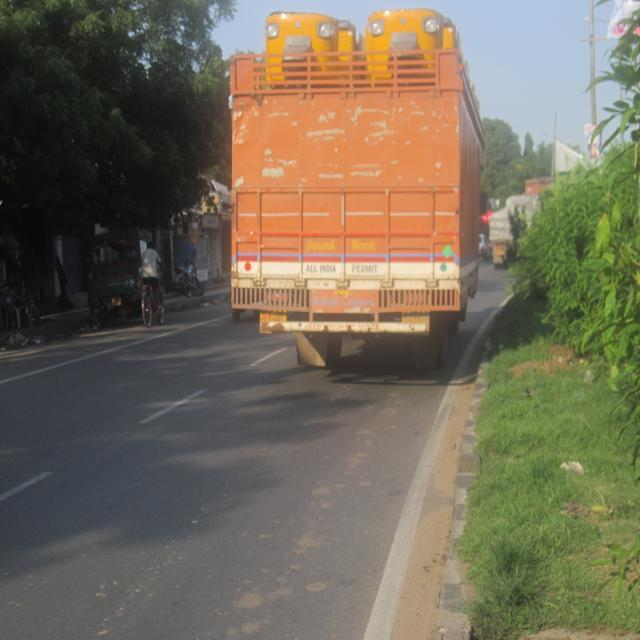truck_back: (222, 7, 484, 378)
